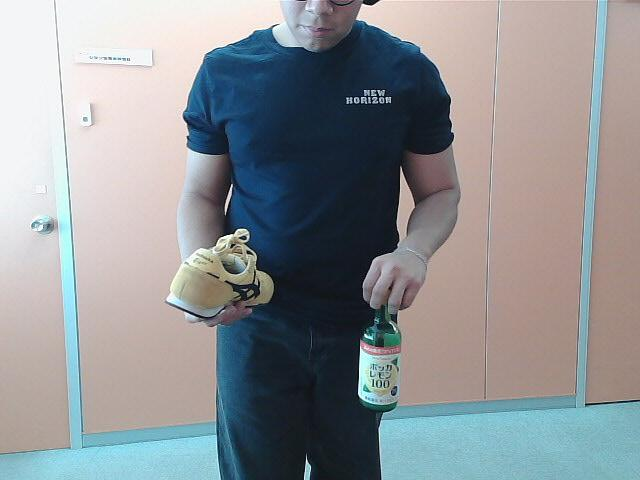Lemon_sapporo: (354, 286, 404, 408)
Shoes: (169, 225, 275, 327)
